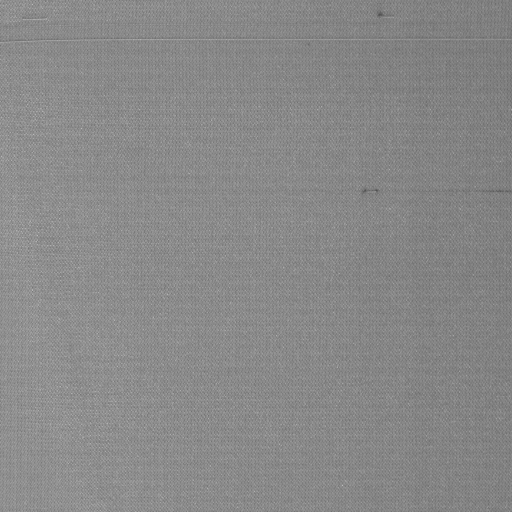defect: (1, 35, 512, 46), (369, 8, 400, 27), (355, 182, 385, 201), (17, 14, 52, 28)
